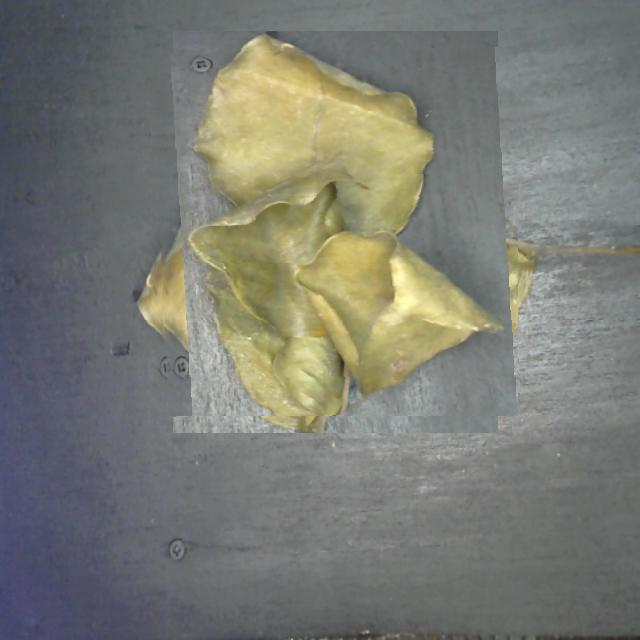biodegradable: (152, 48, 518, 416)
